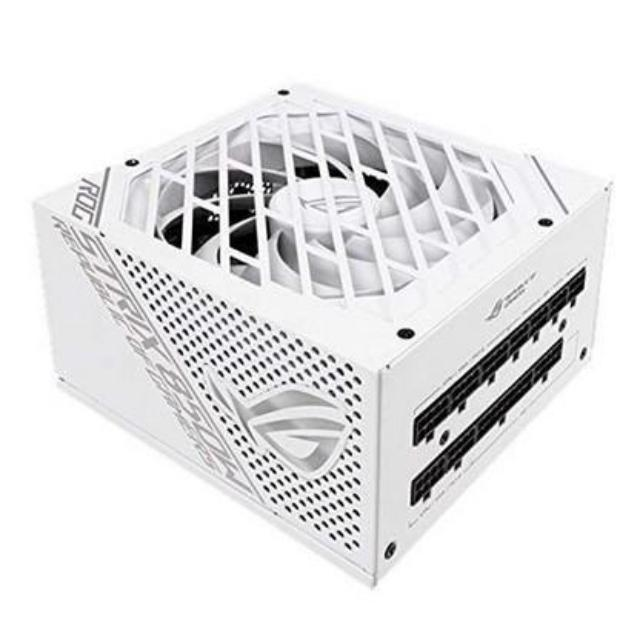PSU: (35, 61, 610, 590)
